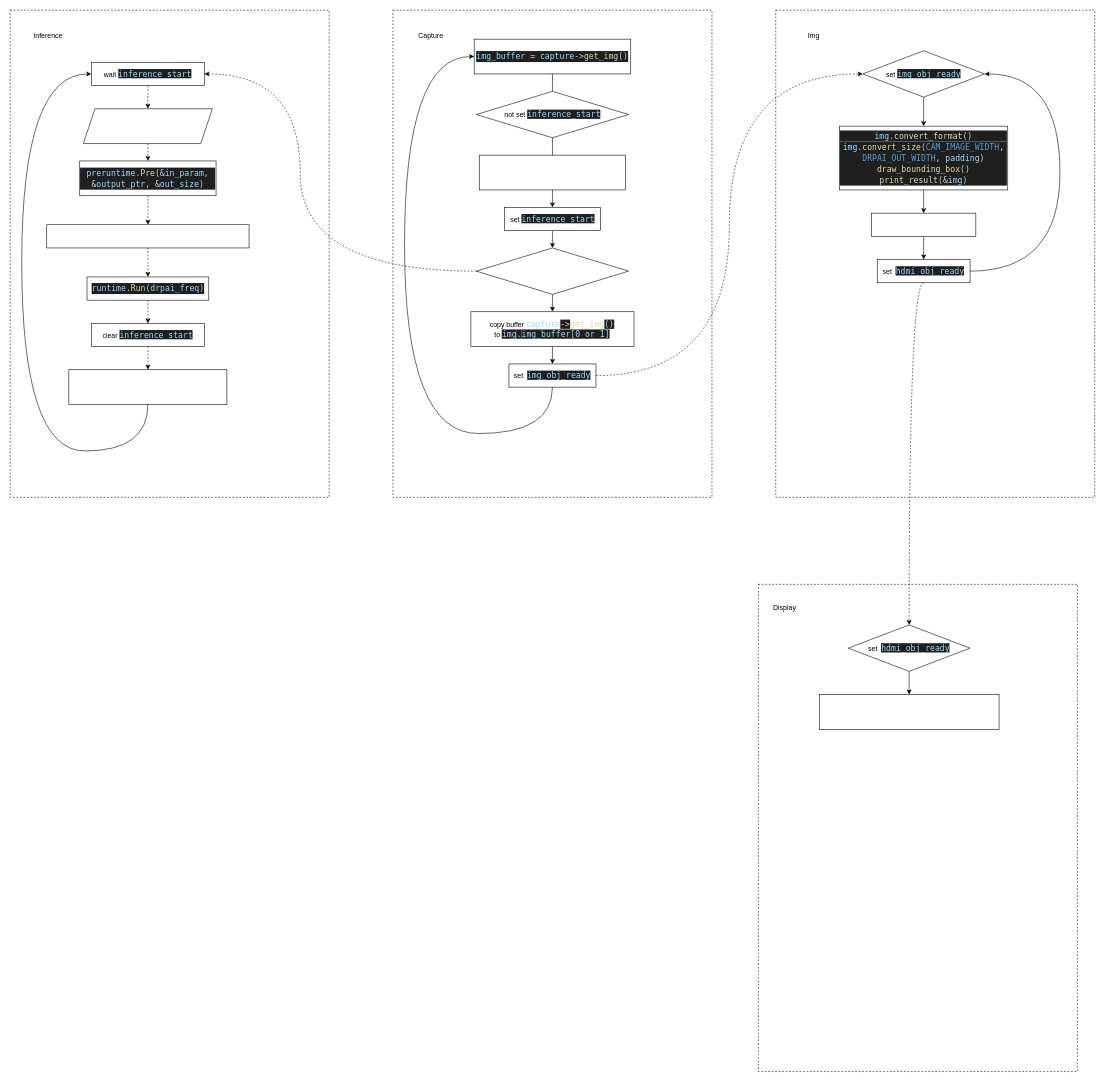
Some shapes in this 1105 by 1082 pixel diagram are drawn without their labels. Here are the shapes that lost their labels. From the top down, the centre of each, then its label:
At pixel 147 126: "in_param . pre_in_addr = capture_address".
At pixel 552 172: "copy buffer capture -> get_img () to capture -> drpai_buf".
At pixel 147 236: "runtime . SetInput ( 0 , ( float * ) output_ptr )".
At pixel 923 224: "clear img_obj_ready".
At pixel 552 270: "not set img_obj_ready".
At pixel 147 387: "R_Post_Proc ( drpai_output_buf )".
At pixel 909 711: "wayland . commit ( img . get_img ( buf_id ), NULL );".
